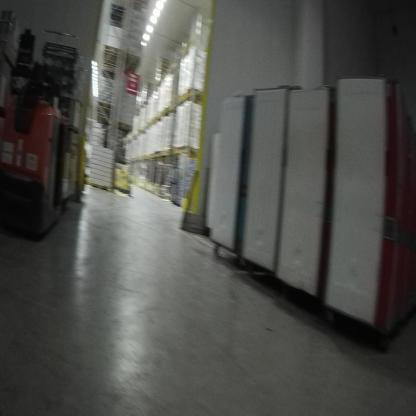pallet_truck: (3, 19, 80, 243)
